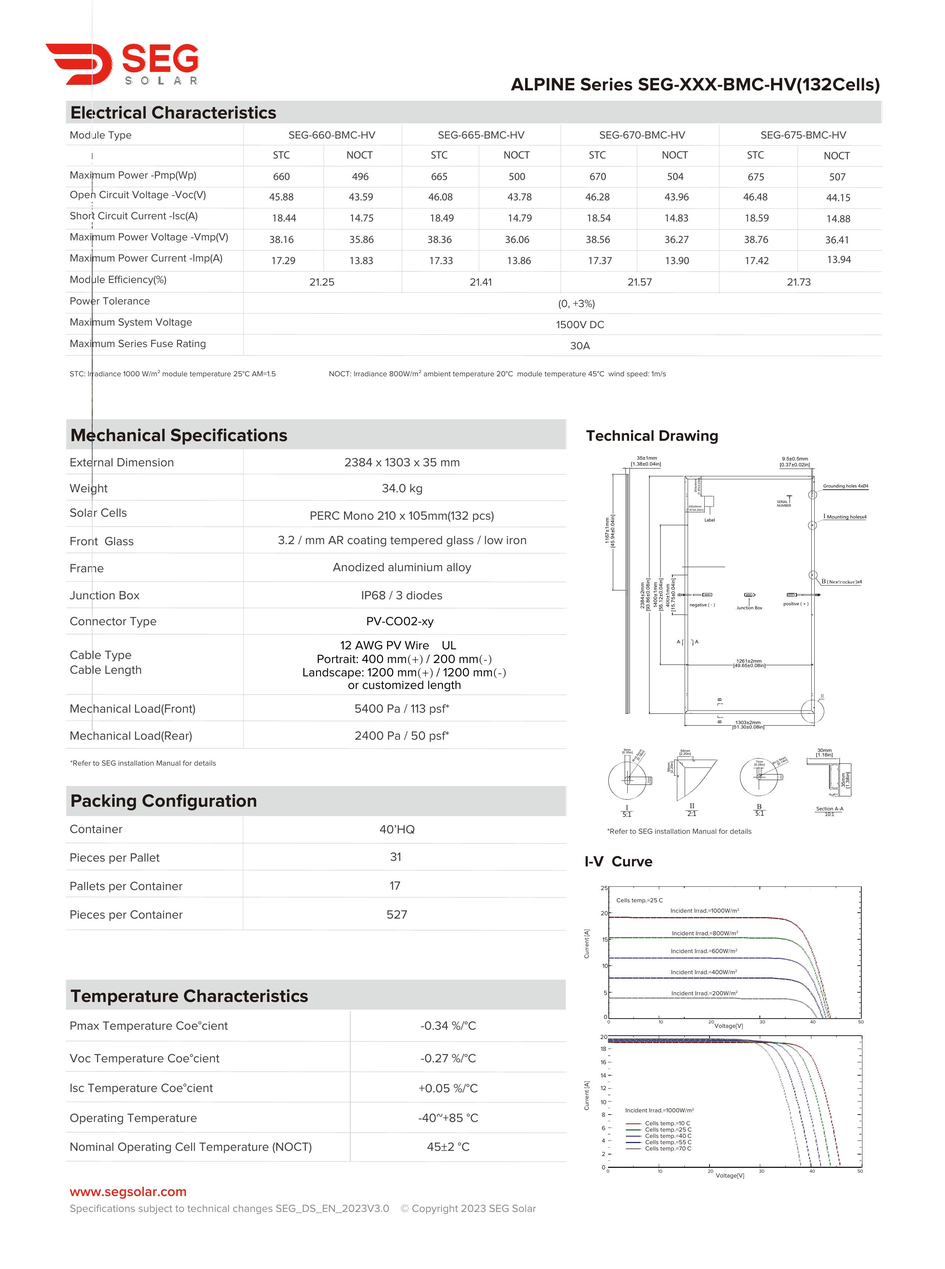table: (51, 95, 896, 386), (54, 417, 577, 759), (56, 974, 581, 1172), (60, 779, 578, 933)
